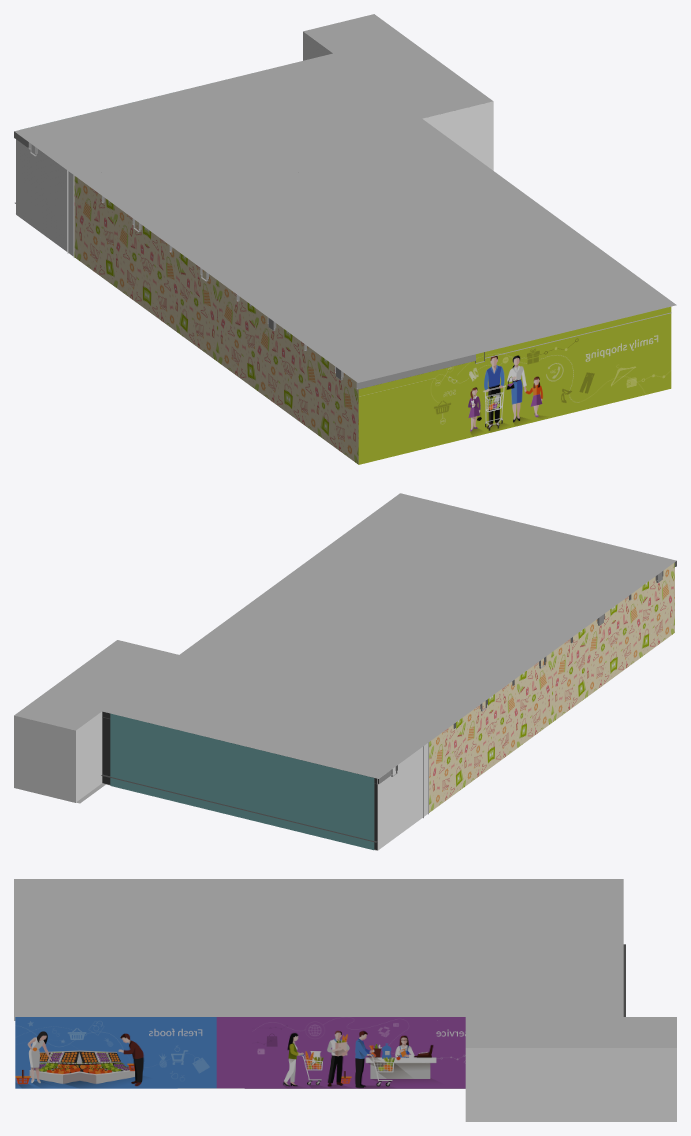
The model's file is Shell.fbx.
3 renders of one model, top to bottom at view 1: azimuth 30°, elevation 25°; view 2: azimuth 150°, elevation 25°; view 3: azimuth 270°, elevation 25°, orthographic. The views are drawn at different scales.
Parts seen in each view (by area): view 1: polySurface1126, polySurface1117, polySurface998; view 2: polySurface1126, polySurface998, polySurface1117; view 3: polySurface1126, polySurface1117, polySurface998.
Boxes of the visible parts, bbox=[...] form: polySurface1126: bbox=[14, 53, 676, 389]; polySurface1117: bbox=[74, 175, 671, 464]; polySurface998: bbox=[15, 14, 493, 256]; polySurface1126: bbox=[102, 493, 676, 784]; polySurface998: bbox=[14, 640, 428, 850]; polySurface1117: bbox=[429, 562, 674, 812]; polySurface1126: bbox=[14, 879, 623, 1020]; polySurface1117: bbox=[15, 1017, 465, 1088]; polySurface998: bbox=[465, 944, 676, 1121].
Size of the model in its own units: 1927 by 396 by 3197.
